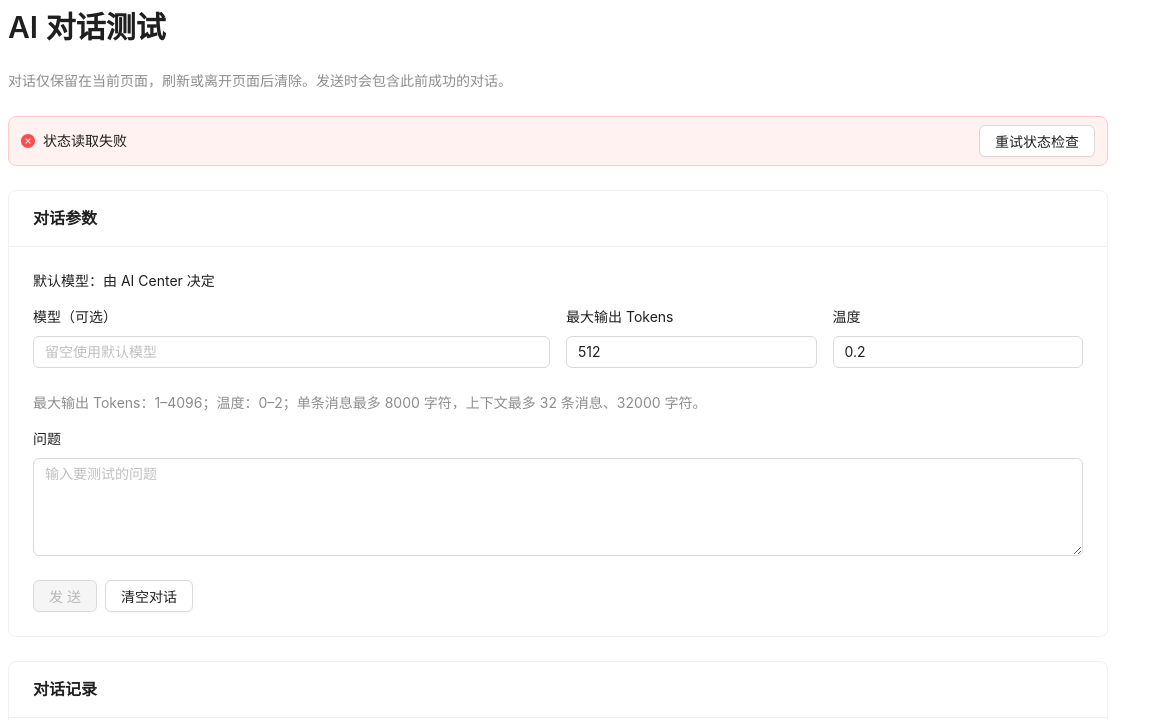
Test case: AI dialogue at the HTTP boundary › offers status retry after a loading failure
The width and height of the screenshot is (1152, 720).
Expected: the text "状态读取失败" is shown, [43,132,127,149]
Expected: the button named "发送" is disabled, [33,580,97,612]
Click the button "重试状态检查" at (1037, 141), box [979,125,1095,157]
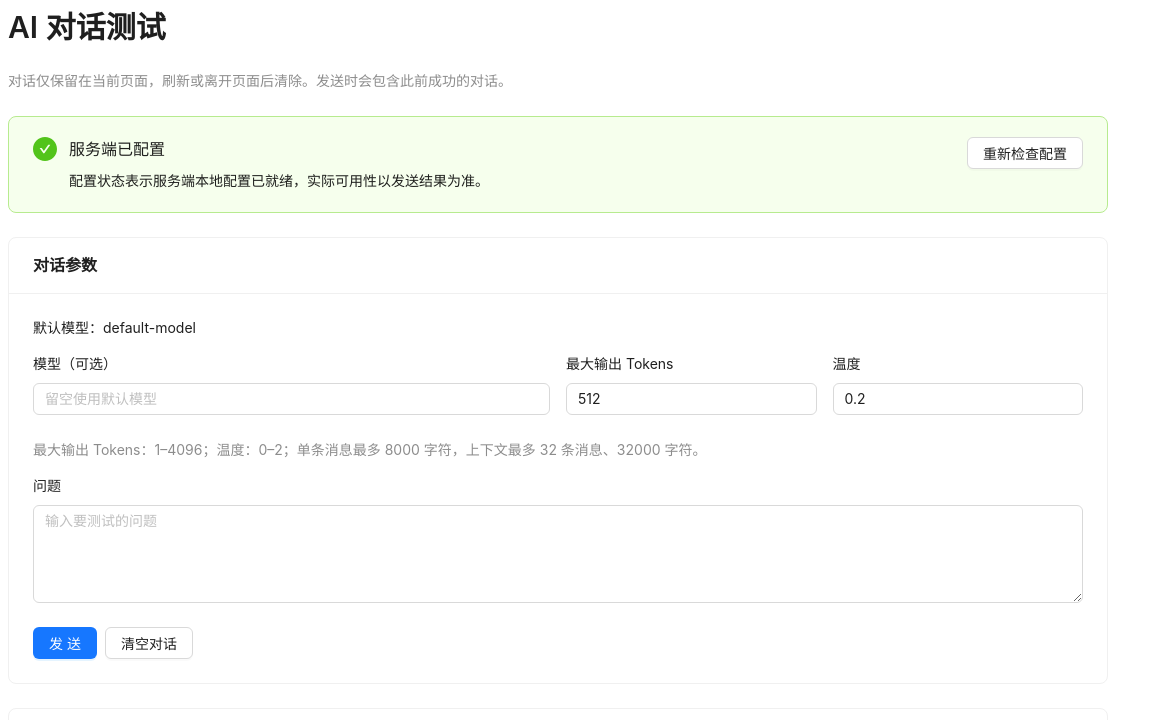
Result: the text "服务端已配置" is shown at [69,139,165,159]
